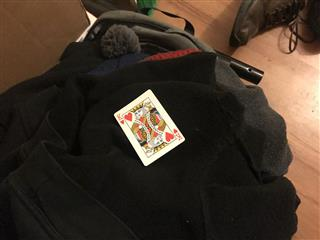KingOfHearts: (113, 88, 185, 166)
